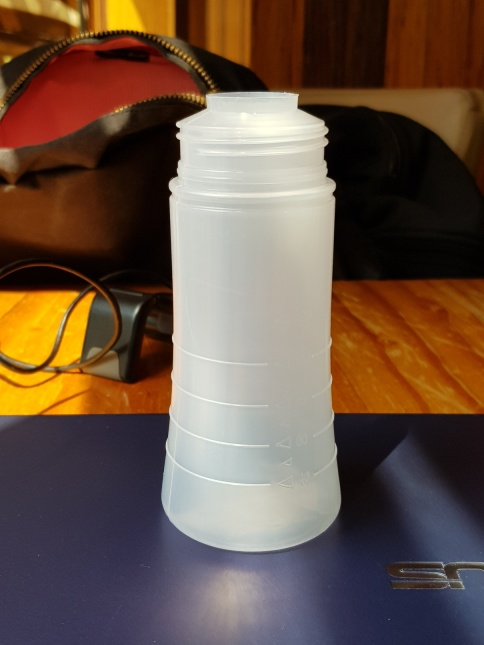Plastic: (157, 82, 348, 557)
